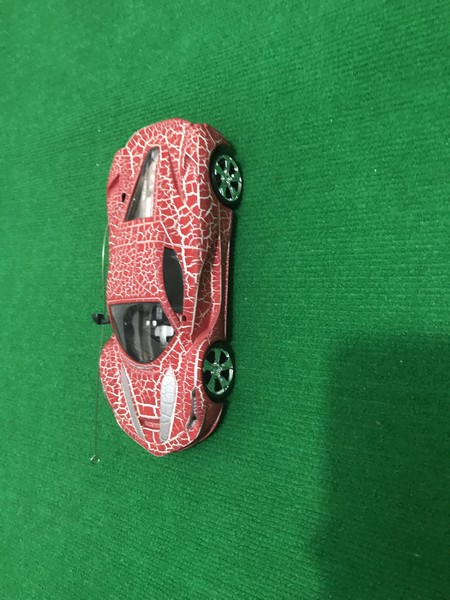RC: (94, 117, 245, 459)
